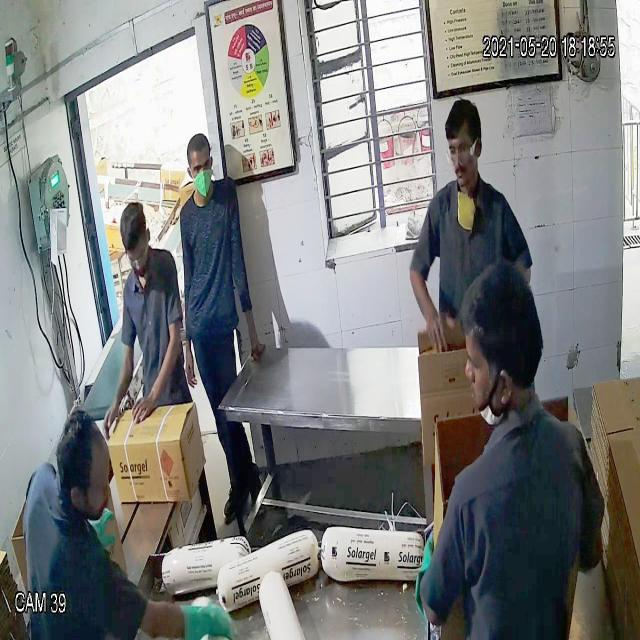glasses: (445, 140, 481, 166)
no-glass: (184, 159, 216, 179)
